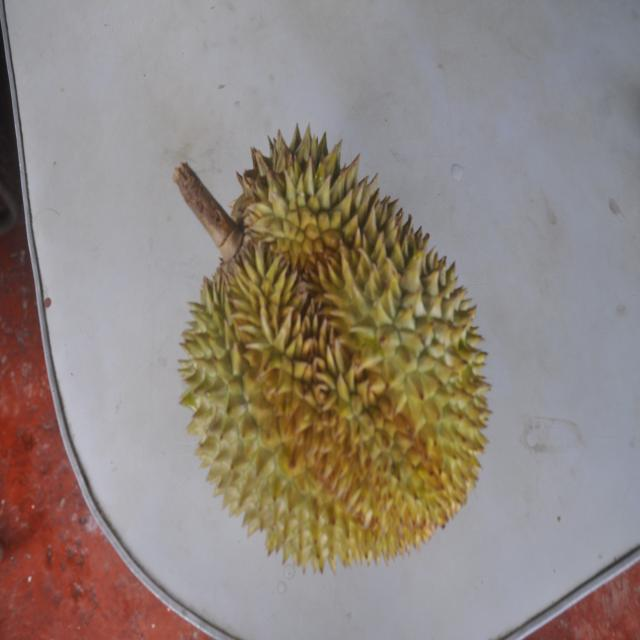mature: (173, 119, 487, 570)
